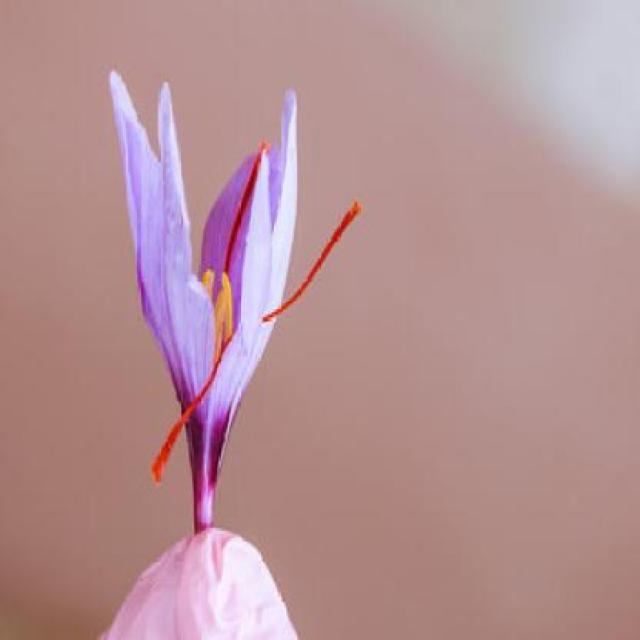Flower: (103, 59, 310, 498)
stigma: (255, 194, 367, 328), (146, 322, 228, 490), (220, 134, 272, 278)
